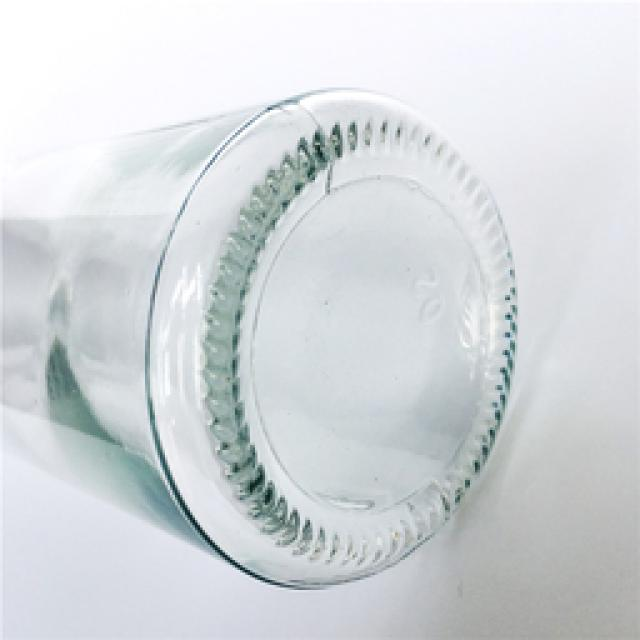glass_beverage_bottles: (27, 80, 543, 598)
